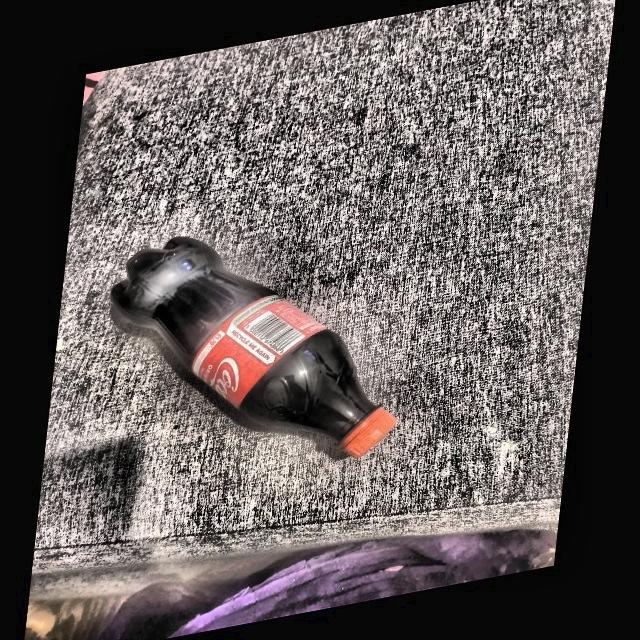coke-bottle: (110, 236, 403, 457)
